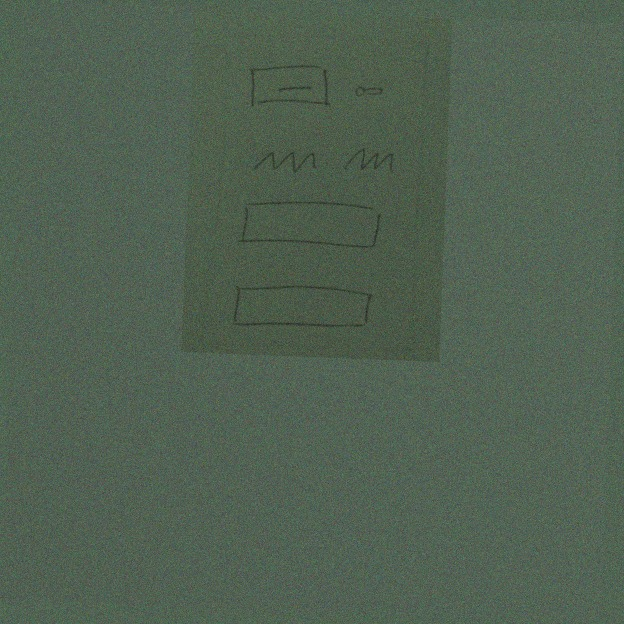button: (241, 61, 339, 111)
switch: (348, 80, 389, 103)
text: (248, 143, 323, 181), (336, 141, 399, 179)
text_input: (226, 273, 379, 340), (234, 194, 388, 256)
